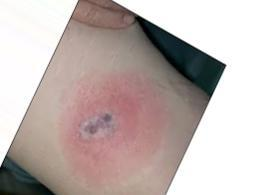Spider: (66, 92, 140, 172)
